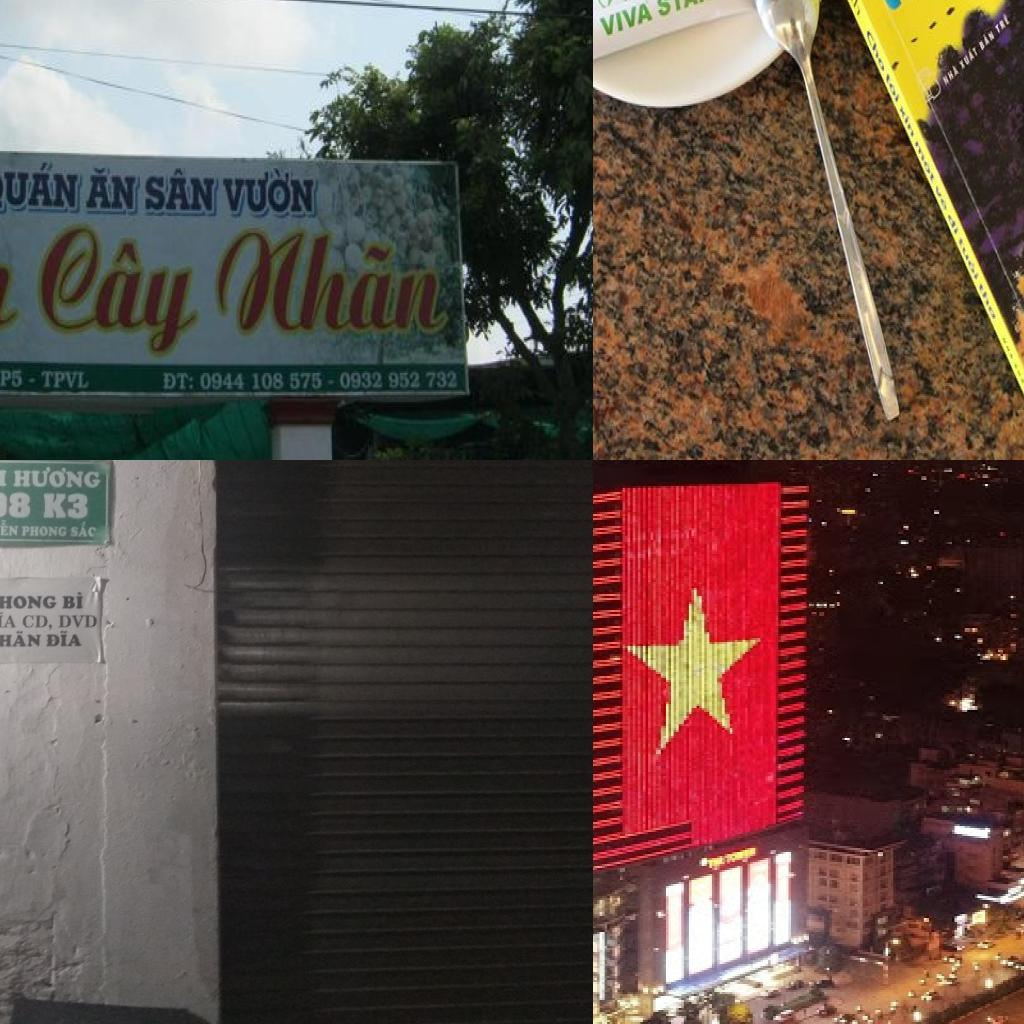text: (213, 223, 454, 349), (32, 216, 202, 356), (221, 167, 319, 221), (0, 156, 85, 214), (142, 163, 220, 218), (84, 164, 141, 218), (199, 370, 325, 394), (598, 0, 655, 40), (10, 468, 102, 488), (40, 491, 90, 520), (40, 368, 93, 393), (957, 234, 982, 284), (913, 138, 937, 189), (656, 0, 714, 21), (865, 28, 887, 76), (977, 280, 999, 324), (0, 491, 32, 520), (160, 370, 196, 394), (0, 594, 57, 609), (898, 101, 917, 141), (884, 70, 903, 108), (44, 631, 89, 647), (56, 612, 100, 628), (0, 631, 43, 647), (20, 612, 56, 631), (957, 42, 979, 72), (21, 524, 68, 538), (0, 366, 25, 391), (933, 180, 950, 214), (978, 26, 997, 55), (839, 0, 865, 21), (68, 521, 98, 539), (945, 210, 962, 239), (942, 63, 960, 90), (994, 10, 1012, 37), (60, 592, 85, 610), (0, 520, 20, 537), (0, 611, 20, 628), (327, 378, 337, 388), (28, 376, 38, 385)
